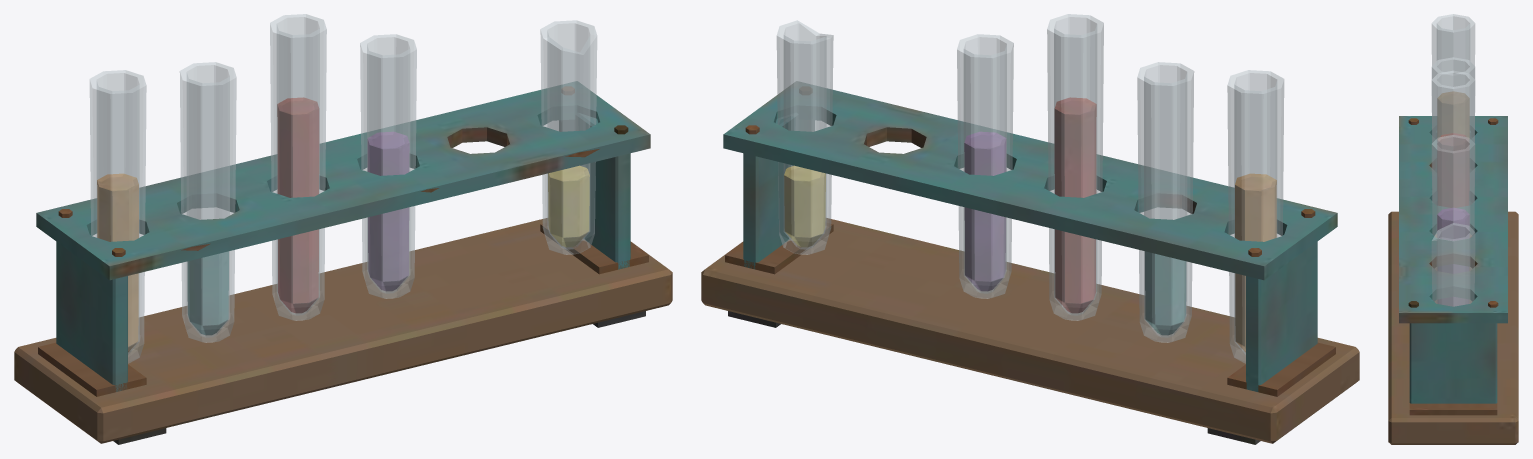
File: Y12_test_tube_rack.glb
3 renders of one model, left to right at view 1: azimuth 30°, elevation 25°; view 2: azimuth 150°, elevation 25°; view 3: azimuth 270°, elevation 25°, orthographic. The views are drawn at different scales.
Visible parts, largest first — view 1: Beveled wooden plinth; view 2: Beveled wooden plinth; view 3: Beveled wooden plinth.
Boxes of the visible parts, left/top/right/bottom form: Beveled wooden plinth: left=14, top=14, right=672, bottom=444; Beveled wooden plinth: left=701, top=14, right=1359, bottom=444; Beveled wooden plinth: left=1388, top=14, right=1518, bottom=444.
Bounding box in the file's own units: 0.3 × 0.168 × 0.079.
11 materials, 10 textured.
